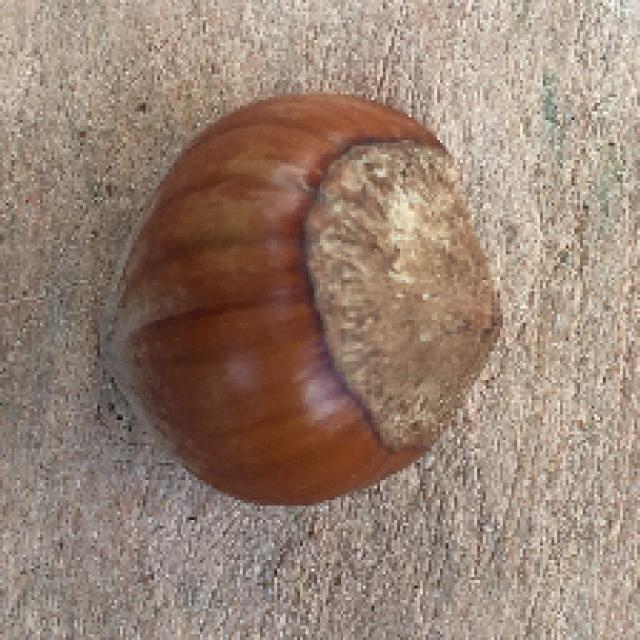qualityHazelnut: (107, 94, 512, 494)
